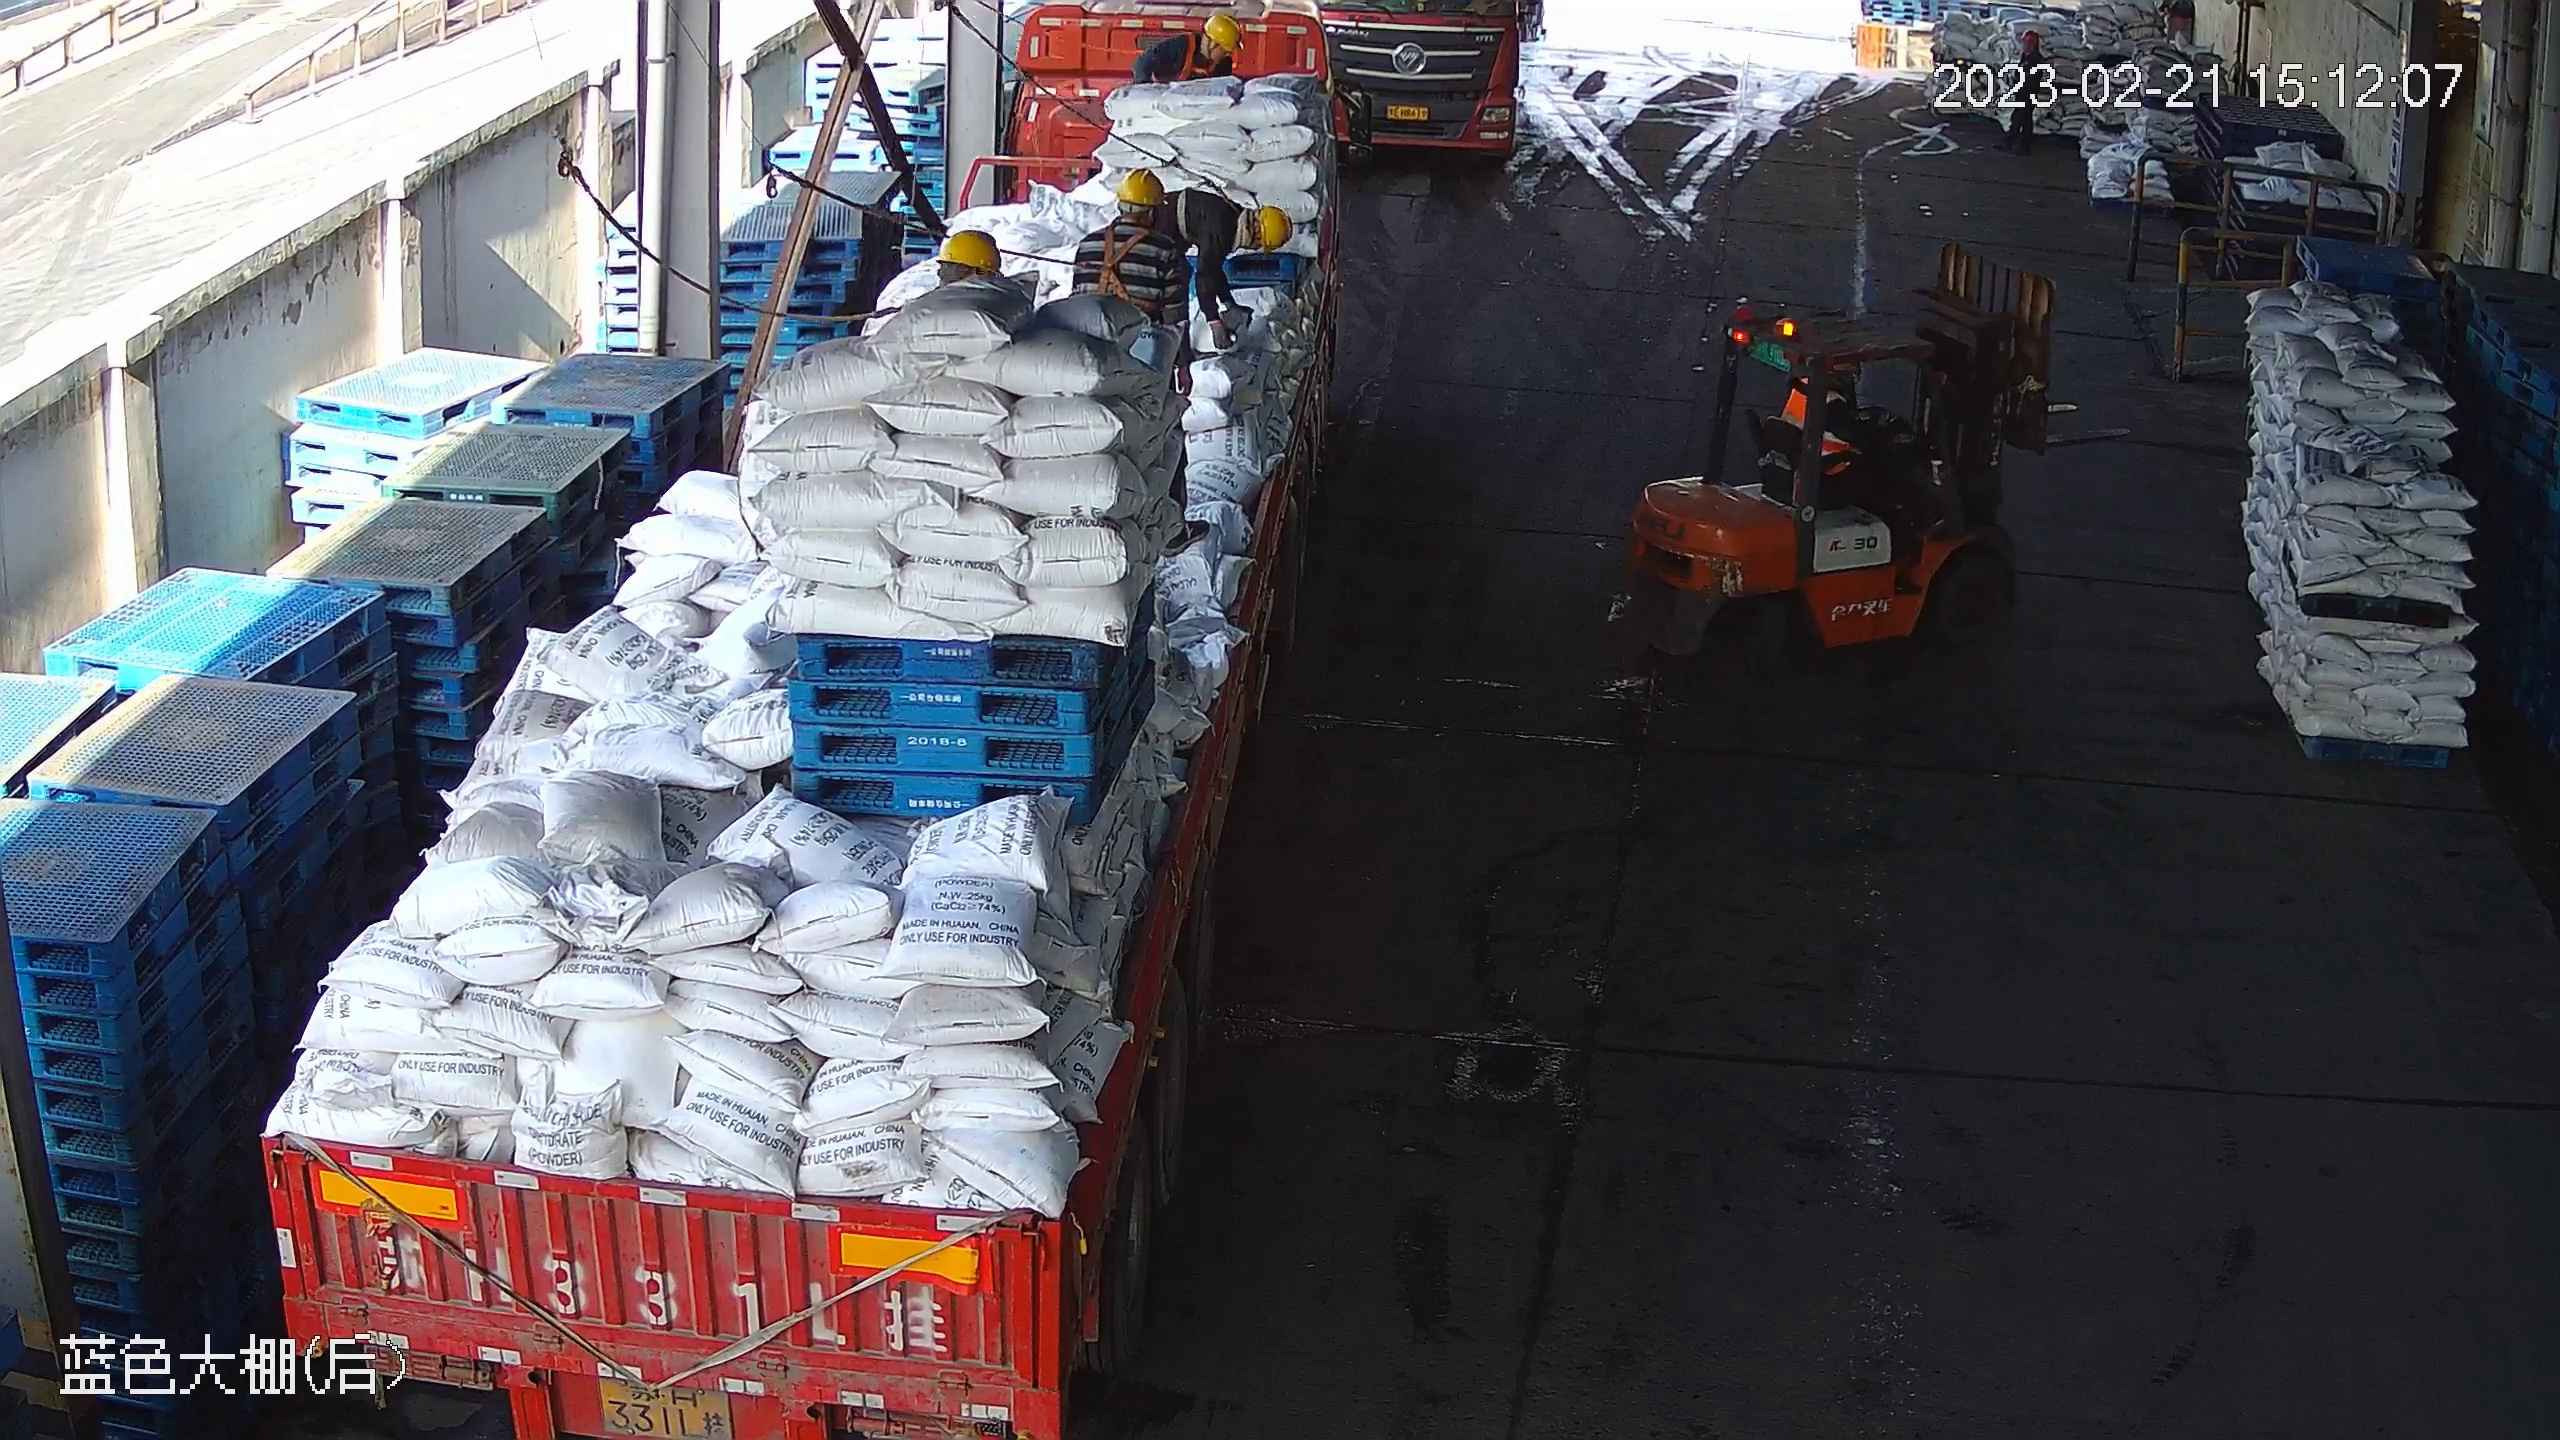belt: (1096, 225, 1162, 310), (1177, 176, 1241, 242), (1177, 30, 1216, 80)
head: (1078, 169, 1180, 277), (1197, 188, 1293, 264), (1160, 14, 1241, 73)
helmet: (935, 229, 1001, 273), (1116, 166, 1164, 205), (1261, 204, 1292, 252), (1203, 14, 1241, 51)
people: (1072, 167, 1211, 550), (1166, 188, 1293, 350)
truck: (258, 1, 1374, 1440), (1318, 1, 1522, 162)
